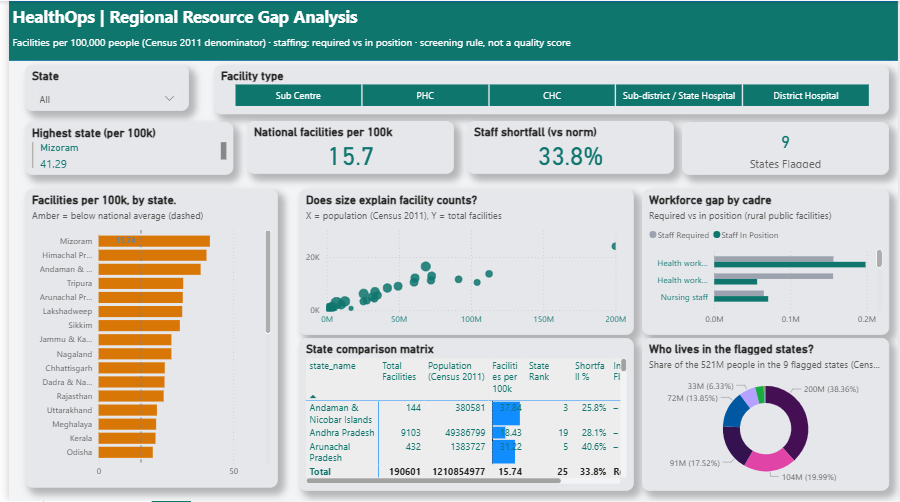

This screenshot's page, from the dashboard's own definition file:
{"tool":"powerbi","page":{"name":"Gap analysis","canvas":[1280,720],"ordinal":1},"visuals":[{"type":"shape","box":[0,0,1280.2,86.4],"z":0},{"type":"textbox","box":[0,0,1280.2,43.2],"z":1000},{"type":"textbox","box":[0,43.2,1280.2,43.2],"z":2000},{"type":"slicer","title":"State","fields":{"Values":["dim_state.state_key"]},"box":[23,91.8,236.1,65.6],"z":3000},{"type":"slicer","title":"Facility type","fields":{"Values":["dim_facility_type.type_label"]},"box":[295.2,92.2,972,70.6],"z":4000},{"type":"multiRowCard","title":"Highest state (per 100k)","fields":{"Values":["_Measures.Highest State Rate","_Measures.Highest State Name"]},"box":[23,174.2,299.5,76.3],"z":5000},{"type":"card","title":"National facilities per 100k","fields":{"Values":["_Measures.National Avg per 100k"]},"box":[342.7,172.8,298.1,76.3],"z":6000},{"type":"card","title":"Staff shortfall (vs norm)","fields":{"Values":["_Measures.Shortfall %"]},"box":[659.5,172.8,298.1,76.3],"z":7000},{"type":"card","fields":{"Values":["_Measures.States Flagged"]},"box":[969.1,174.2,298.1,76.3],"z":8000},{"type":"clusteredBarChart","title":"Facilities per 100k, by state.","fields":{"Category":["dim_state.state_name"],"Y":["_Measures.Facilities per 100k"]},"box":[23,270.5,363.9,429.5],"z":9000},{"type":"scatterChart","title":"Does size explain facility counts?","fields":{"Category":["dim_state.state_name"],"X":["_Measures.Population (Census 2011)"],"Y":["_Measures.Total Facilities"],"Size":["_Measures.Facilities per 100k"]},"box":[418,270.5,482,209.8],"z":10000},{"type":"clusteredBarChart","title":"Workforce gap by cadre","fields":{"Category":["fact_staffing.cadre"],"Y":["_Measures.Staff Required","_Measures.Staff In Position"]},"box":[911.5,270.5,355.7,209.8],"z":11000},{"type":"pivotTable","title":"State comparison matrix","fields":{"Rows":["dim_state.state_name"],"Values":["_Measures.Total Facilities","_Measures.Population (Census 2011)","_Measures.Facilities per 100k","_Measures.State Rank","_Measures.Shortfall %","_Measures.Investigation Flag"]},"box":[418,485.2,482,219.7],"z":12000},{"type":"donutChart","title":"Who lives in the flagged states?","fields":{"Category":["dim_state.state_name"],"Y":["_Measures.Population (Census 2011)"]},"box":[911,485,356,220],"z":12001}]}

Visuals, with their boxes in screenshot pixels (x1, y1, x2, y2), scaled from the page's 1280x720 canvas onto the 900x502 screenshot:
shape: Rect(0, 0, 899, 60)
textbox: Rect(0, 0, 899, 30)
textbox: Rect(0, 30, 899, 60)
"State" slicer: Rect(16, 64, 182, 110)
"Facility type" slicer: Rect(208, 64, 891, 114)
"Highest state (per 100k)" multiRowCard: Rect(16, 121, 227, 175)
"National facilities per 100k" card: Rect(241, 120, 451, 174)
"Staff shortfall (vs norm)" card: Rect(464, 120, 673, 174)
card - _Measures.States Flagged: Rect(681, 121, 891, 175)
"Facilities per 100k, by state." clusteredBarChart: Rect(16, 189, 272, 488)
"Does size explain facility counts?" scatterChart: Rect(294, 189, 633, 335)
"Workforce gap by cadre" clusteredBarChart: Rect(641, 189, 891, 335)
"State comparison matrix" pivotTable: Rect(294, 338, 633, 491)
"Who lives in the flagged states?" donutChart: Rect(641, 338, 891, 492)
